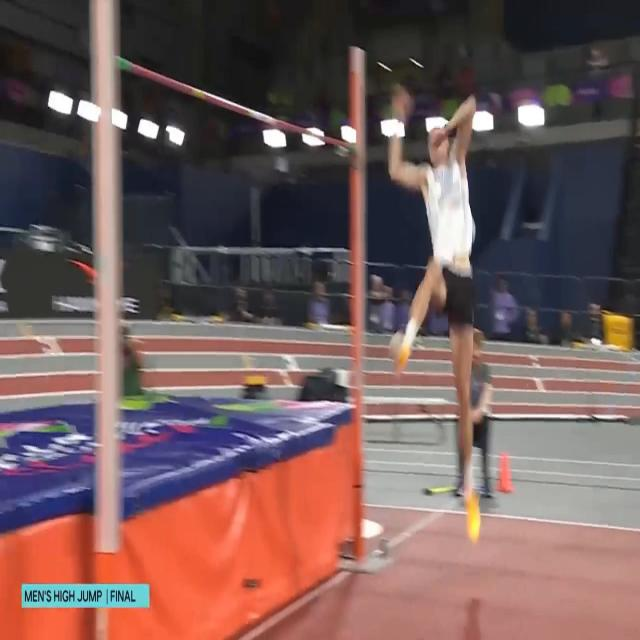jump: (389, 84, 481, 544)
